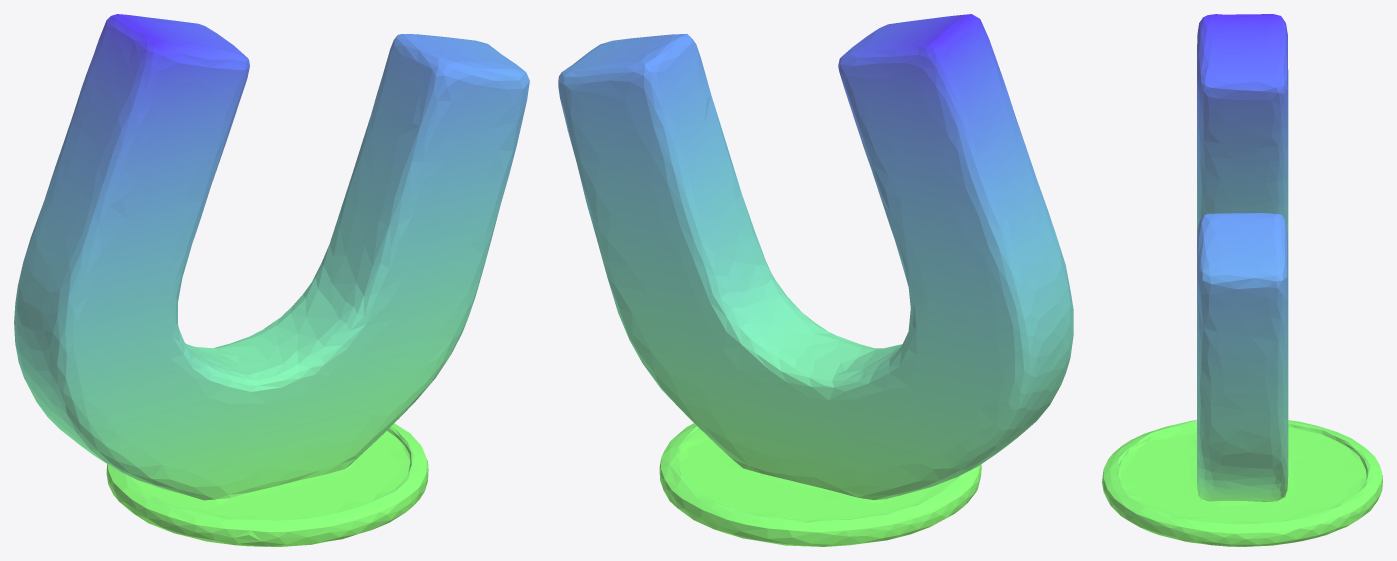
Rendered from 27_cyb_laser_gradient_fish_scales_2920_2026_10_03_aa2e2c.glb.
3 views of the same model, side by side, from view 1: azimuth 30°, elevation 25°; view 2: azimuth 150°, elevation 25°; view 3: azimuth 270°, elevation 25° (orthographic). The views are drawn at different scales.
Visible parts, largest first — view 1: geometry_0; view 2: geometry_0; view 3: geometry_0.
Part boxes in pixels (x1,y1,x2,y2): geometry_0: (14, 14, 529, 546); geometry_0: (558, 14, 1073, 546); geometry_0: (1102, 14, 1382, 546).
Bounding box in the file's own units: 1 × 0.9991 × 0.5907.
